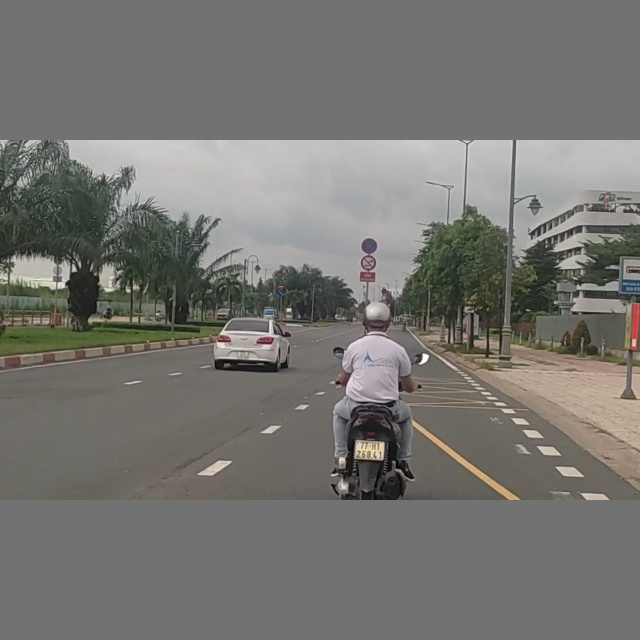P.111: (360, 255, 377, 271)
P.130: (359, 237, 379, 254)
